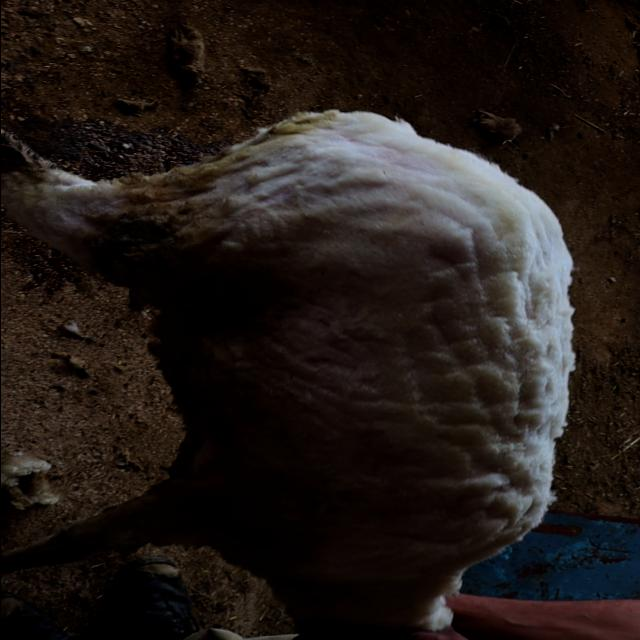Score_5: (1, 109, 573, 640)
